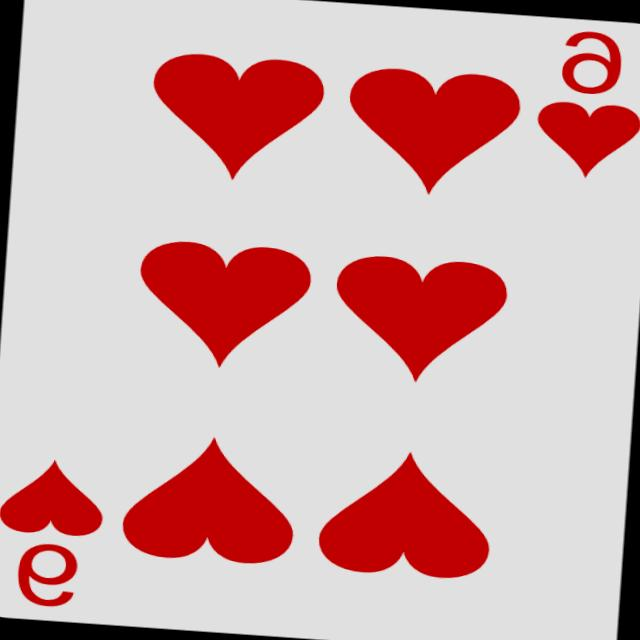Heart: (146, 48, 326, 185), (316, 444, 496, 581), (342, 64, 523, 200), (330, 252, 510, 388), (120, 430, 300, 566), (134, 237, 313, 373), (0, 455, 106, 538), (533, 98, 640, 180)
